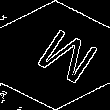M_SW: (17, 21, 93, 89)
